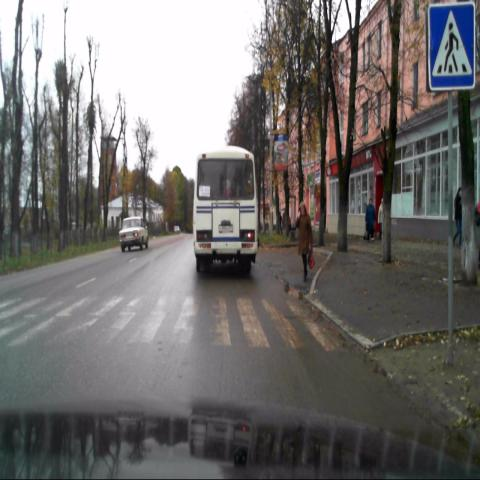5_19_1: (427, 0, 476, 91)
